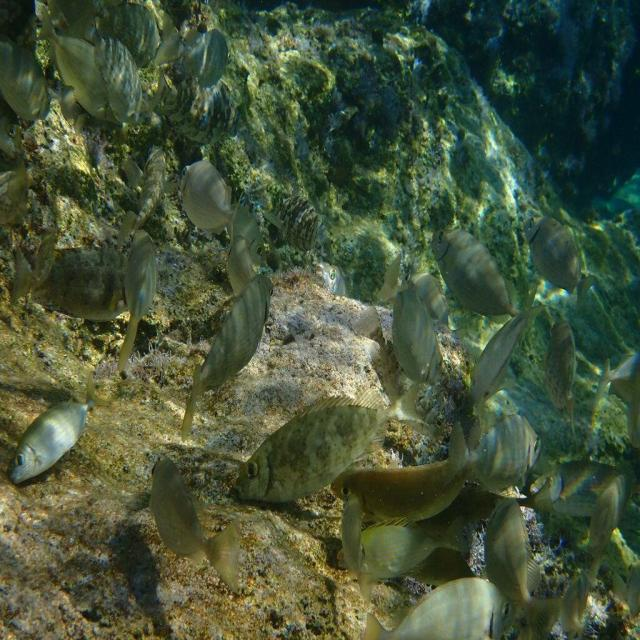Sokar Baligi: (228, 364, 432, 511), (167, 264, 286, 451), (2, 361, 113, 497), (439, 406, 547, 508), (516, 195, 602, 315)
